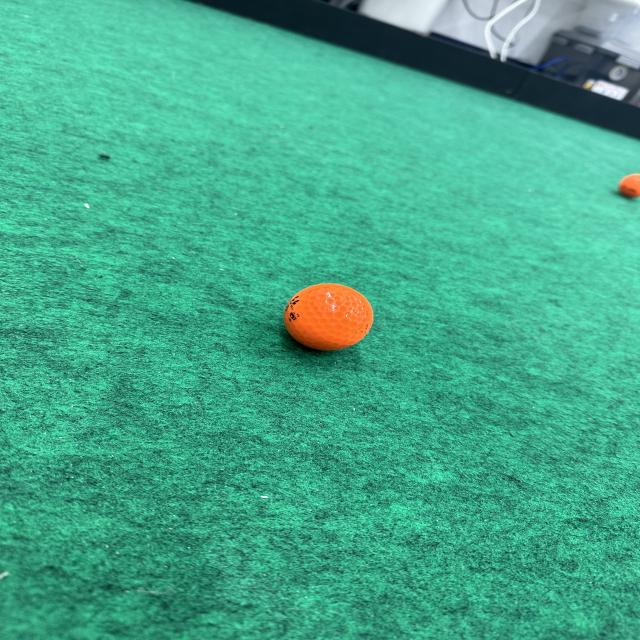ball: (281, 281, 376, 354)
